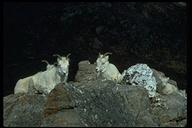goat: (11, 46, 76, 97), (93, 50, 126, 84)
rock: (134, 60, 186, 122)
